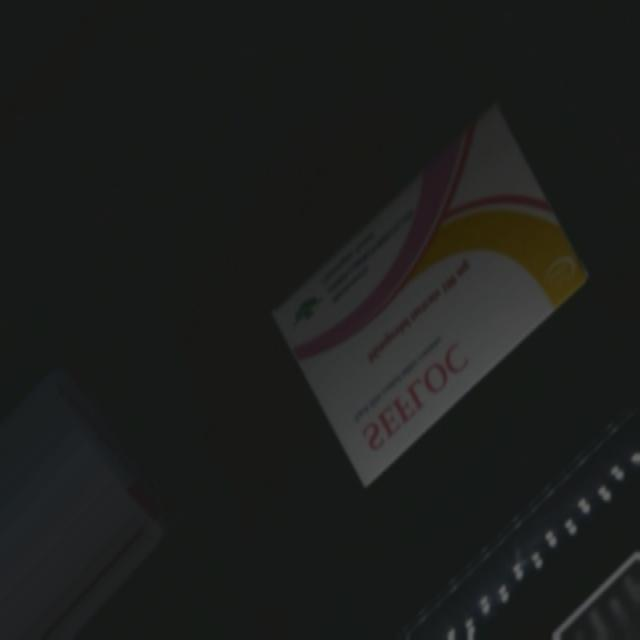medicine_name_detection: (266, 105, 581, 479)
